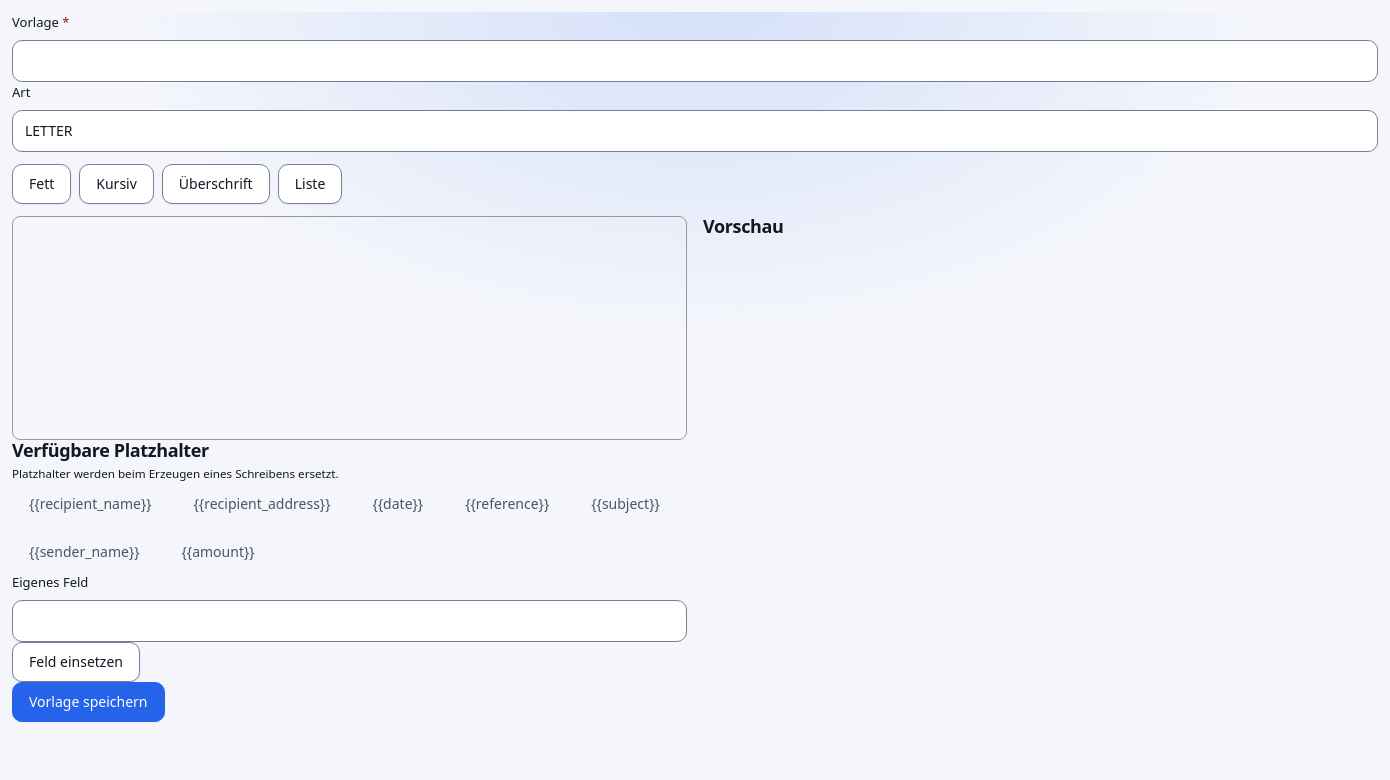
Test: TemplateEditor › adds a field of its own, and refuses an invalid name, an empty name and an empty text
Click the button "Vorlage speichern" at (88, 702), box left=12, top=682, right=164, bottom=722
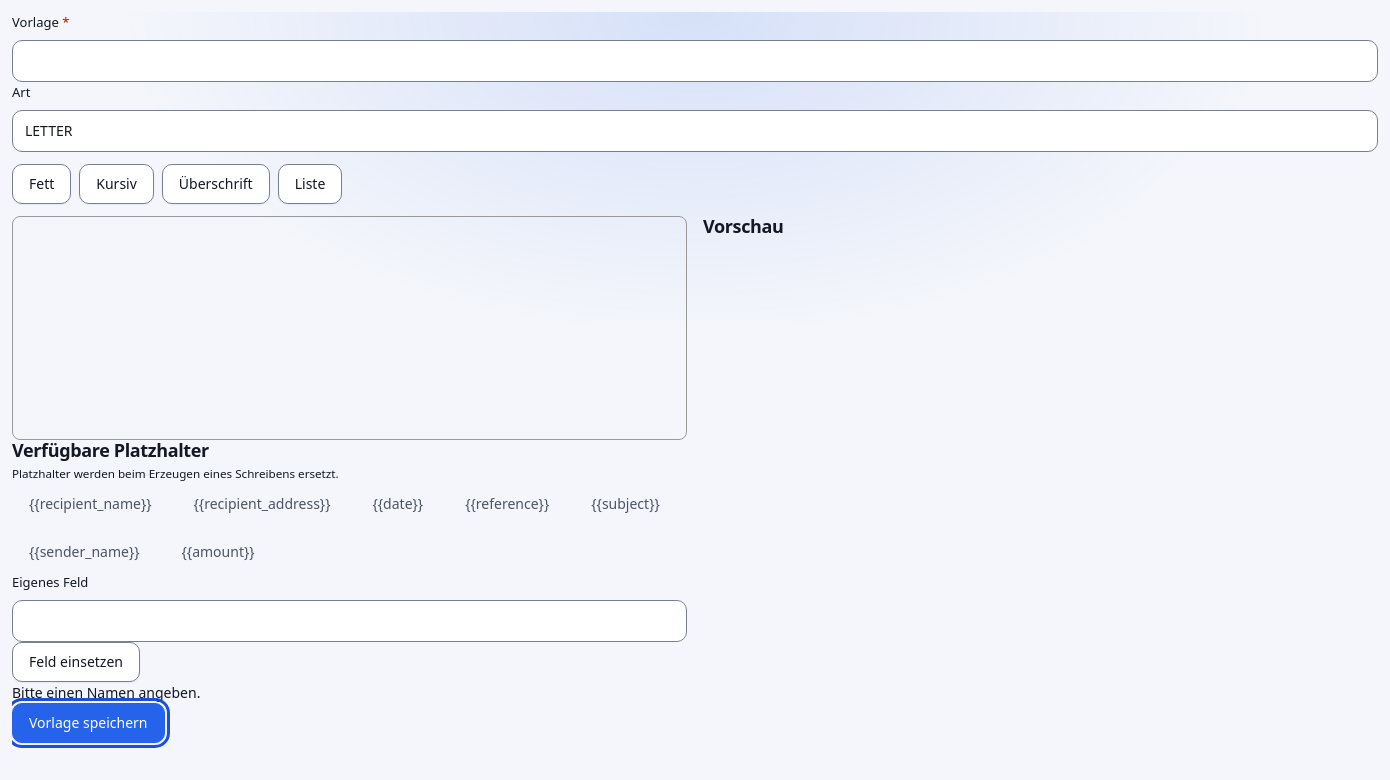
Result: the message reads "Bitte einen Namen angeben." at left=12, top=683, right=200, bottom=702
Type "X" into the field labelled "Vorlage" at (695, 61), box left=13, top=41, right=1377, bottom=81
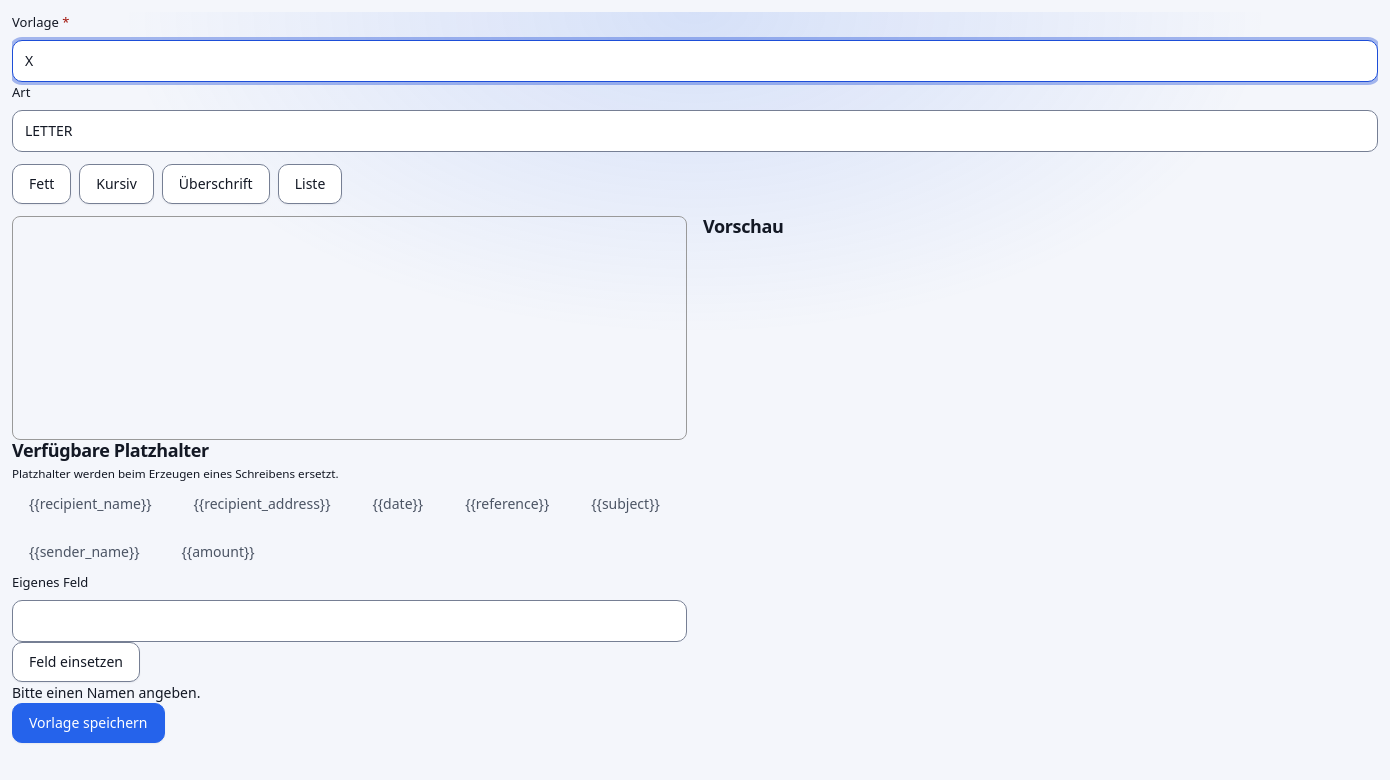
Click the button "Vorlage speichern" at (88, 723), box left=12, top=703, right=164, bottom=743
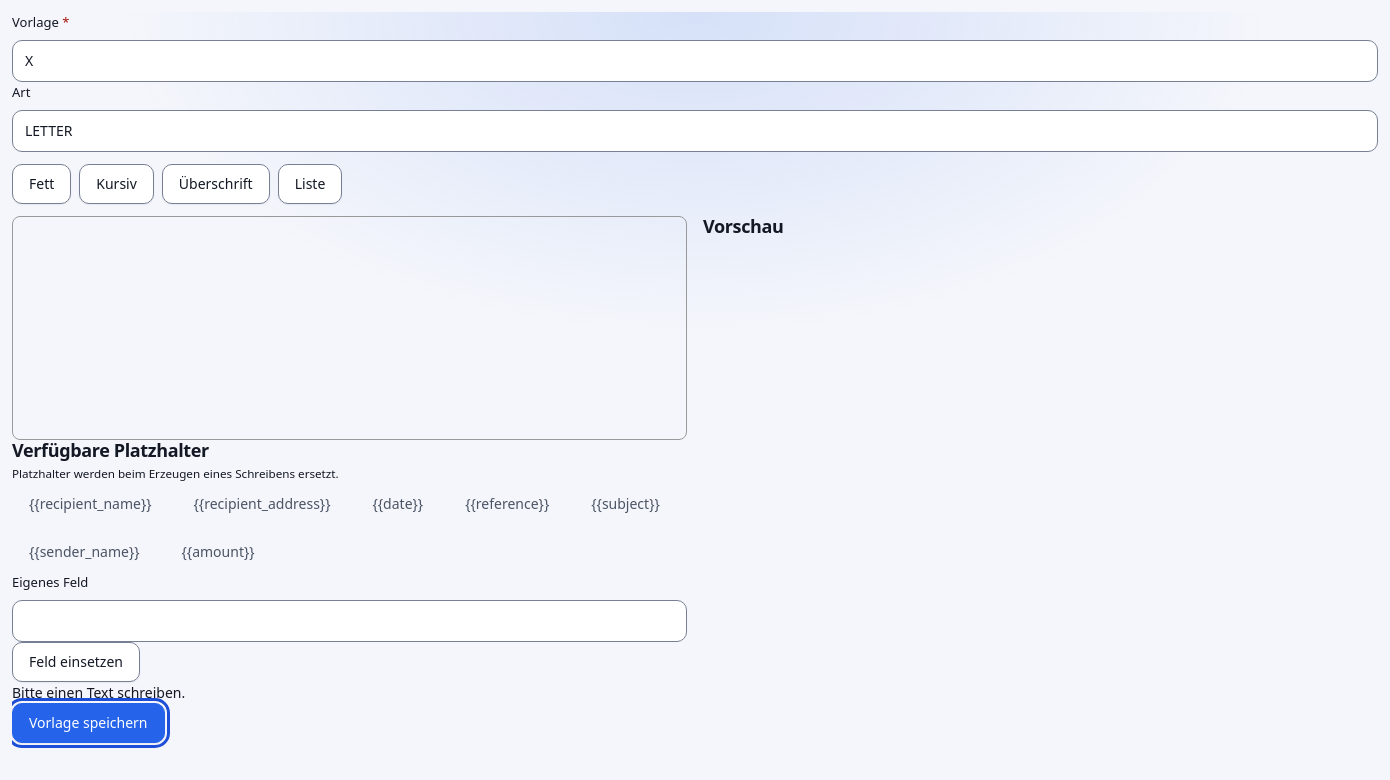
Result: the message reads "Bitte einen Text schreiben." at left=12, top=683, right=185, bottom=702
Type "9bad" into the field labelled "Eigenes Feld" at (350, 621), box left=13, top=601, right=686, bottom=641
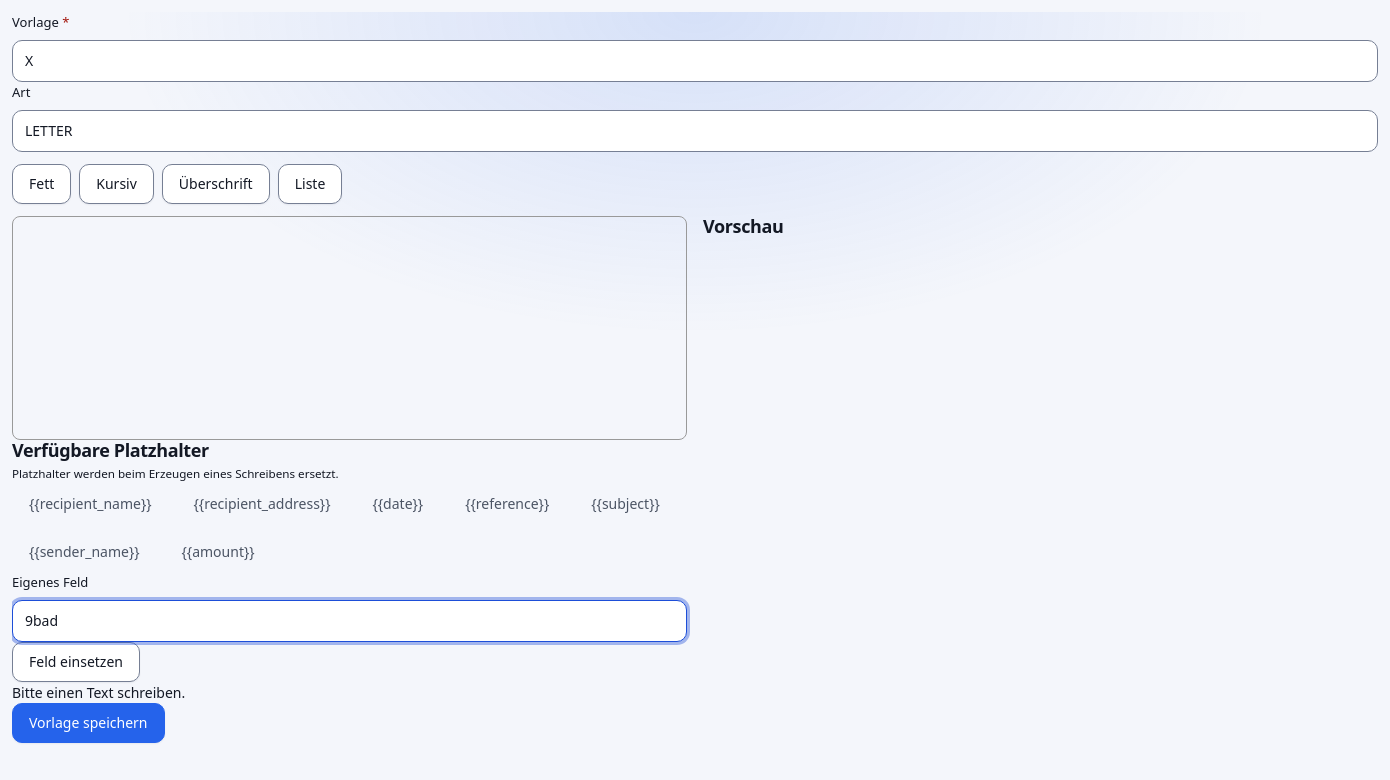
Click the button "Feld einsetzen" at (76, 662), box left=12, top=642, right=140, bottom=682
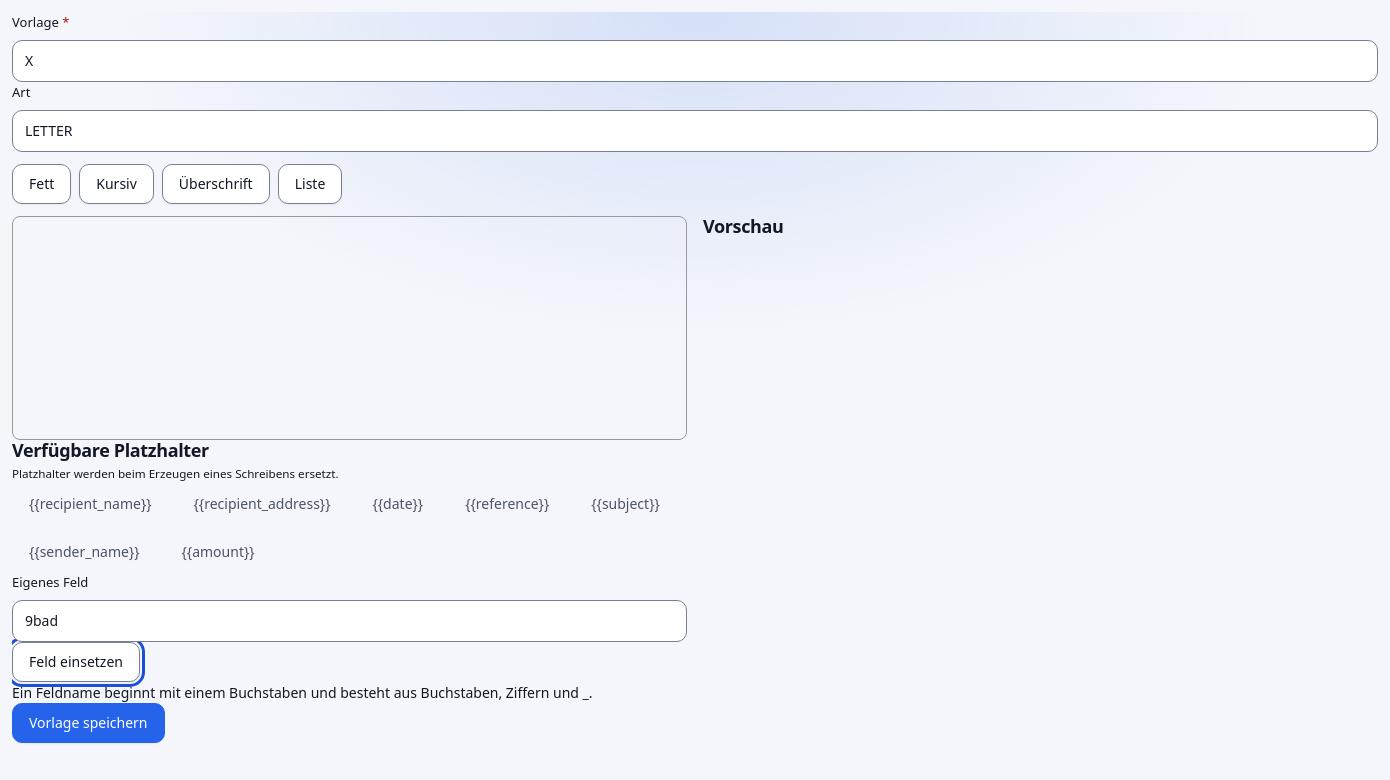
Result: the message shows "beginnt mit einem Buchstaben" at left=12, top=683, right=593, bottom=702
Replace the text in the field labelled "Eigenes Feld" with "aktenzeichen" at (350, 621), box left=13, top=601, right=686, bottom=641
Click the button "Feld einsetzen" at (76, 662), box left=12, top=642, right=140, bottom=682
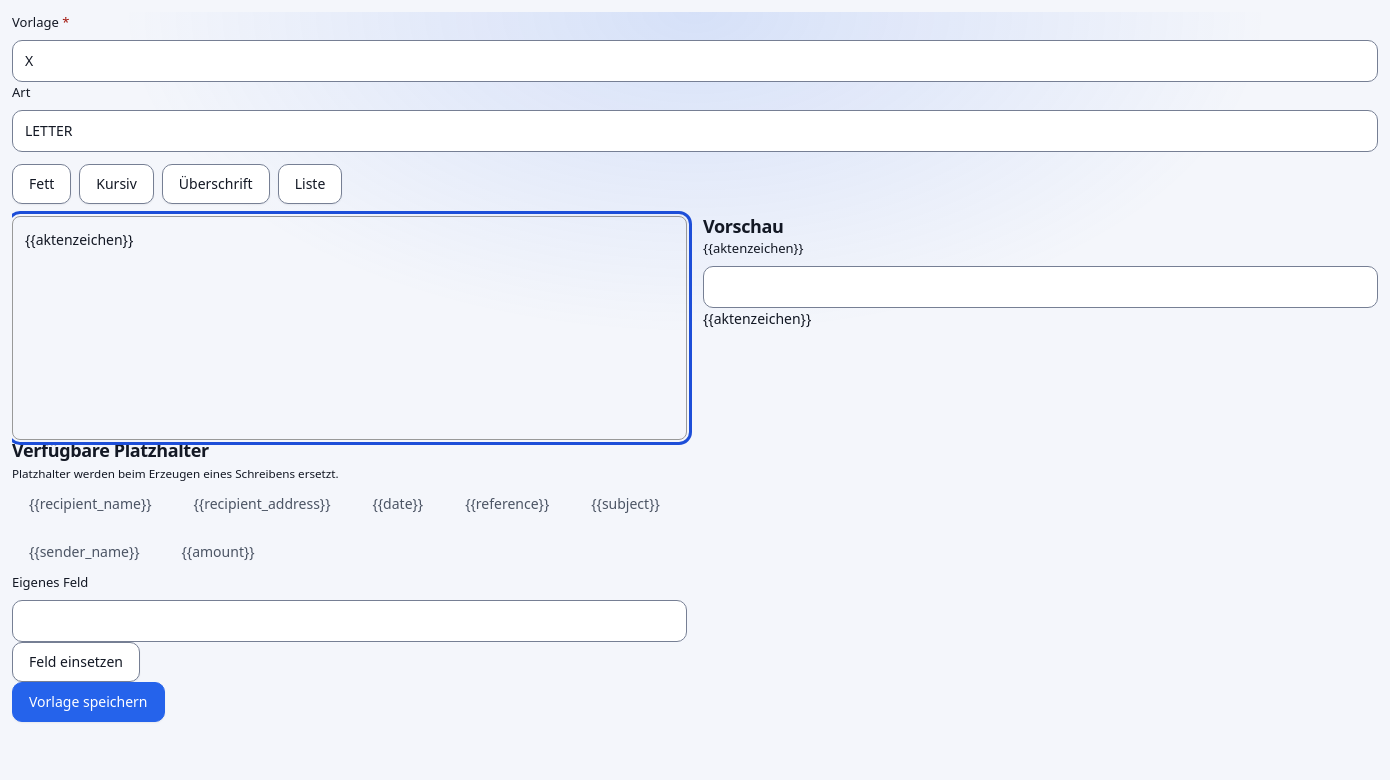
Result: the field named "Vorlageninhalt" reads "{{aktenzeichen}}" at left=12, top=216, right=687, bottom=440
